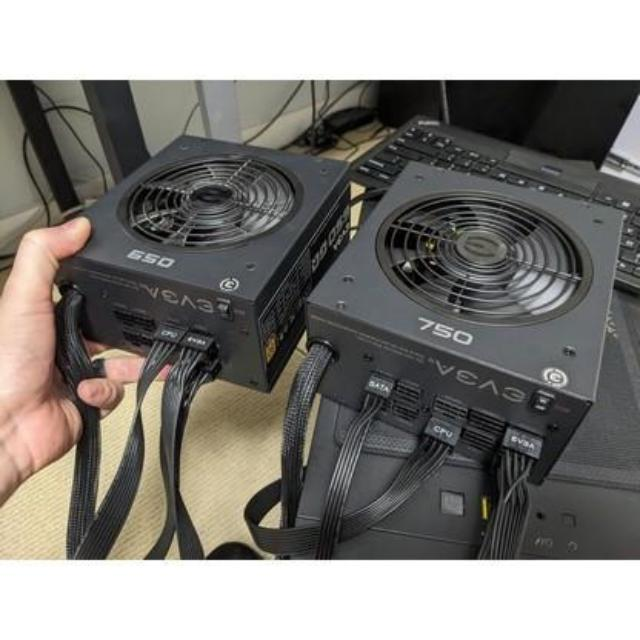PSU: (301, 154, 633, 492), (55, 118, 354, 400)
